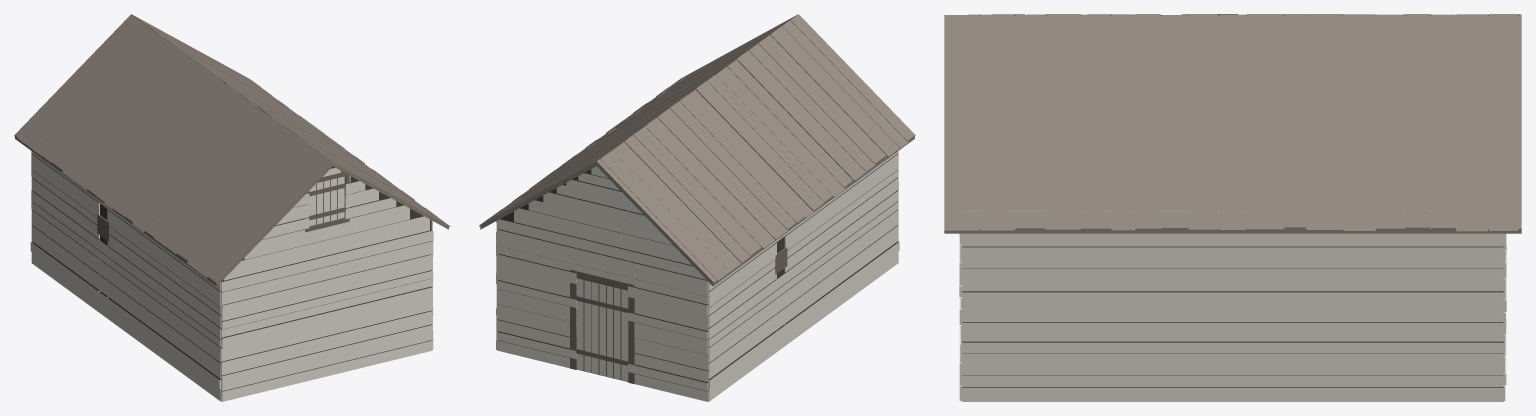
Rendered from recon_1835_west_047__inferred_1835.glb.
3 renders of one model, left to right at view 1: azimuth 30°, elevation 25°; view 2: azimuth 150°, elevation 25°; view 3: azimuth 270°, elevation 25°, orthographic. The views are drawn at different scales.
Parts seen in each view (by area): view 1: recon_1835_west_047__inferred_1835; view 2: recon_1835_west_047__inferred_1835; view 3: recon_1835_west_047__inferred_1835.
Boxes of the visible parts, bbox=[...] form: recon_1835_west_047__inferred_1835: bbox=[14, 14, 450, 401]; recon_1835_west_047__inferred_1835: bbox=[479, 14, 915, 401]; recon_1835_west_047__inferred_1835: bbox=[944, 14, 1521, 401].
Bounding box in the file's own units: 6.17 × 5.45 × 9.1.
